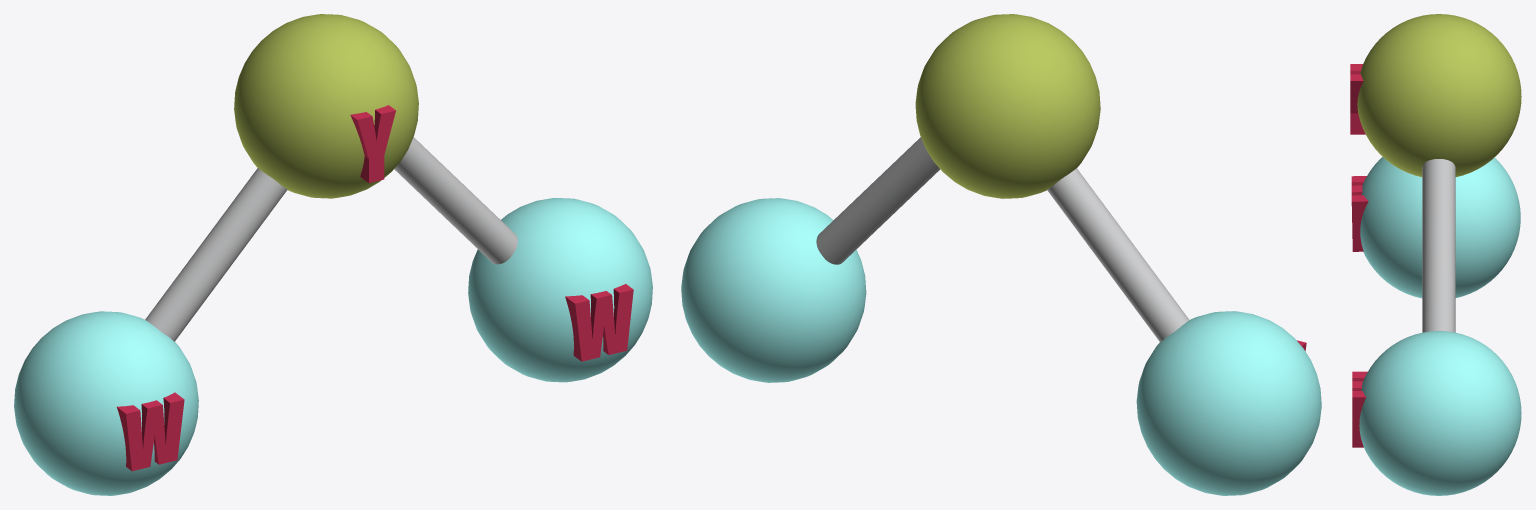
The model's file is asset.glb.
3 renders of one model, left to right at view 1: azimuth 30°, elevation 25°; view 2: azimuth 150°, elevation 25°; view 3: azimuth 270°, elevation 25°, orthographic. The views are drawn at different scales.
Visible parts, largest first — view 1: 3DGeom-2, 3DGeom-5, 3DGeom-3, 3DGeom-1; view 2: 3DGeom-2, 3DGeom-5, 3DGeom-3; view 3: 3DGeom-2, 3DGeom-5, 3DGeom-3, 3DGeom-1.
Part boxes in pixels (x1,y1,x2,y2): 3DGeom-2: [14, 198, 652, 495]; 3DGeom-5: [234, 14, 418, 198]; 3DGeom-3: [145, 137, 517, 341]; 3DGeom-1: [117, 105, 633, 471]; 3DGeom-2: [681, 198, 1321, 495]; 3DGeom-5: [915, 14, 1100, 198]; 3DGeom-3: [816, 137, 1189, 342]; 3DGeom-2: [1359, 157, 1521, 495]; 3DGeom-5: [1357, 14, 1521, 176]; 3DGeom-3: [1422, 159, 1455, 332]; 3DGeom-1: [1350, 64, 1368, 447].
Size of the model in its own units: 0.7674 by 0.4902 by 0.2073.
